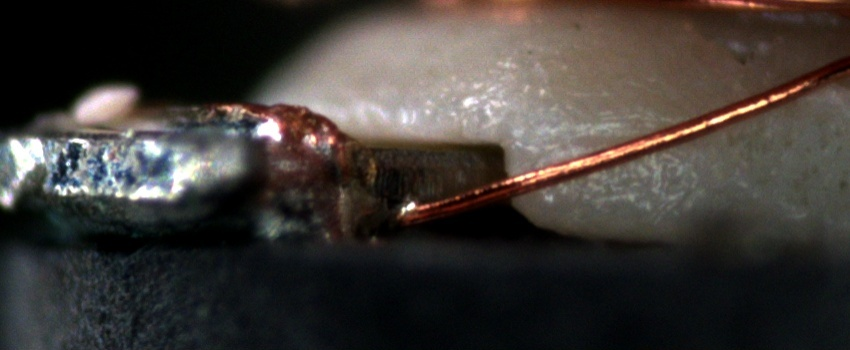DL: (544, 102, 671, 160)
TE: (217, 97, 361, 157)
